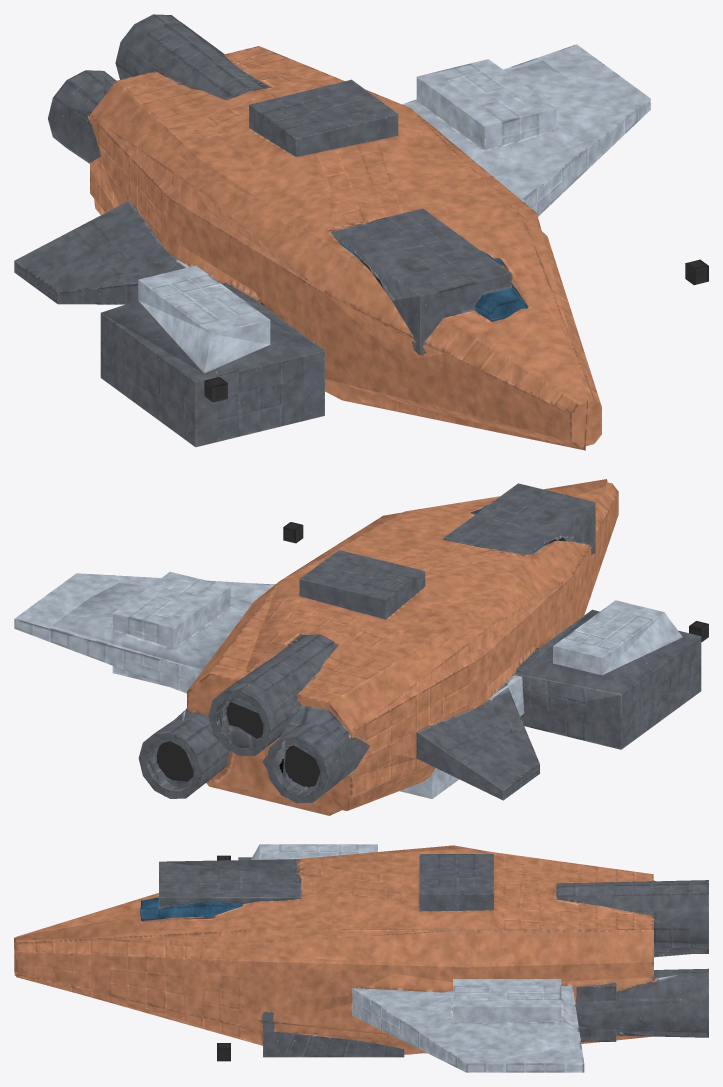
File: sd_npc_reaver.glb
3 views of the same model, one above another, from view 1: azimuth 30°, elevation 25°; view 2: azimuth 150°, elevation 25°; view 3: azimuth 270°, elevation 25° (orthographic). The views are drawn at different scales.
Parts seen in each view (by area): view 1: LOD0_body, LOD1_body; view 2: LOD0_body, LOD1_body; view 3: LOD0_body, LOD1_body.
Boxes of the visible parts, x1,y1,x2,y2 form: LOD0_body: (14, 14, 708, 447); LOD1_body: (14, 21, 607, 450); LOD0_body: (14, 482, 708, 815); LOD1_body: (14, 479, 699, 810); LOD0_body: (16, 844, 708, 1072); LOD1_body: (14, 844, 708, 1068).
Bounding box in the file's own units: 0.7963 × 0.2641 × 1.
Materials: 1 (1 with a texture image).
